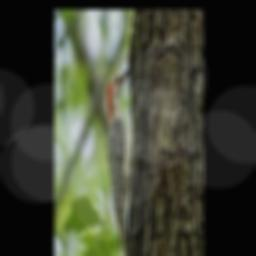Woodpecker: (108, 68, 143, 256)
